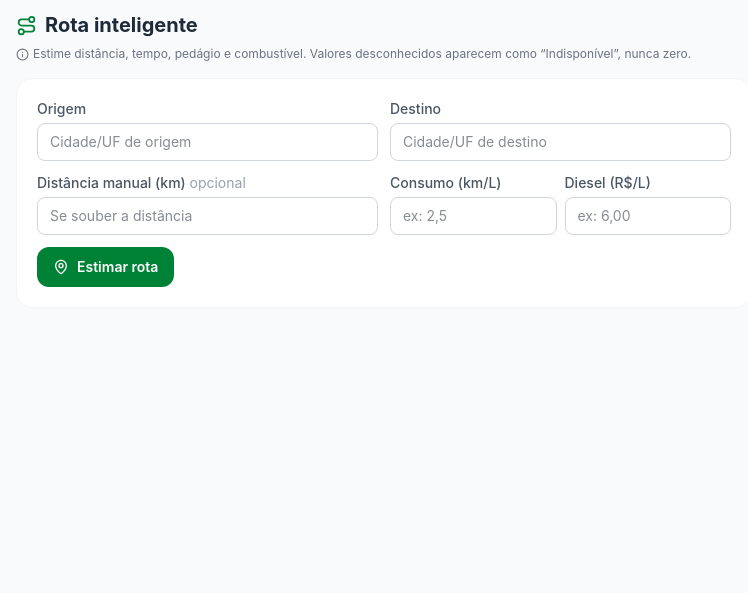
RotaInteligente › provedor indisponível mostra fallback manual e nada de zero
Type "A" into the field labelled "Origem" at (208,142), box x1=37 y1=123 x2=378 y2=161
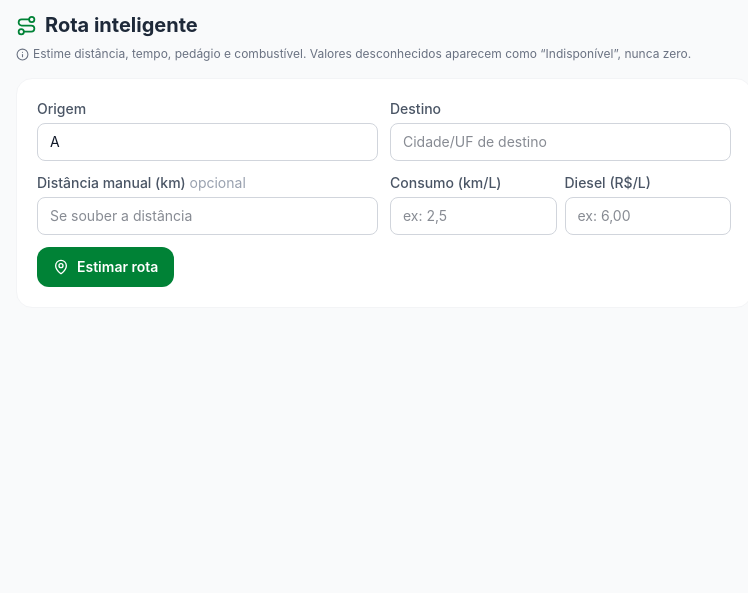
Type "B" into the field labelled "Destino" at (560,142), box x1=390 y1=123 x2=731 y2=161
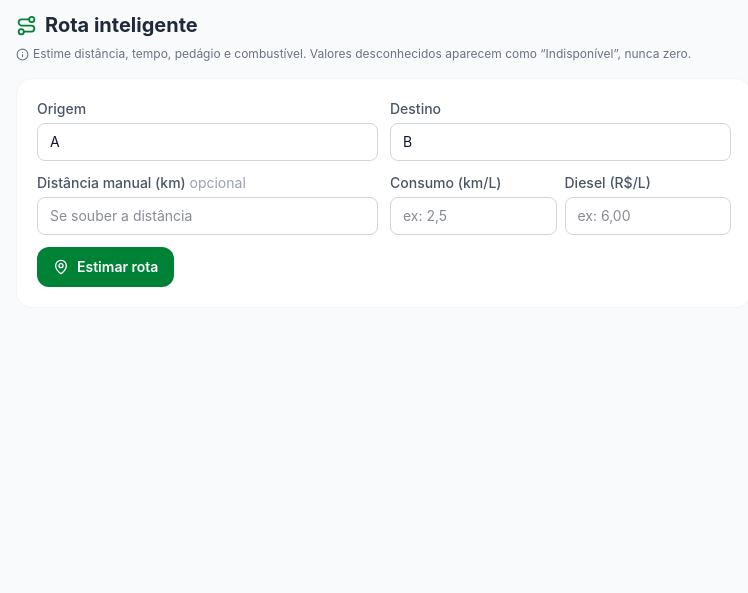
Click the button "Estimar rota" at (106,267), box x1=37 y1=247 x2=174 y2=287
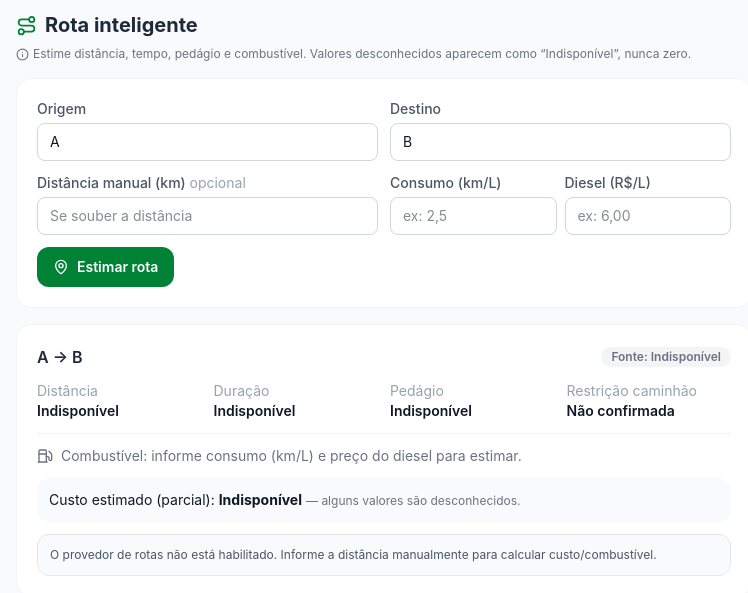
Now the text "não está habilitado" is shown, box x1=50 y1=547 x2=657 y2=562
Now the 1st text "Indisponível" is shown, box x1=37 y1=402 x2=119 y2=419
